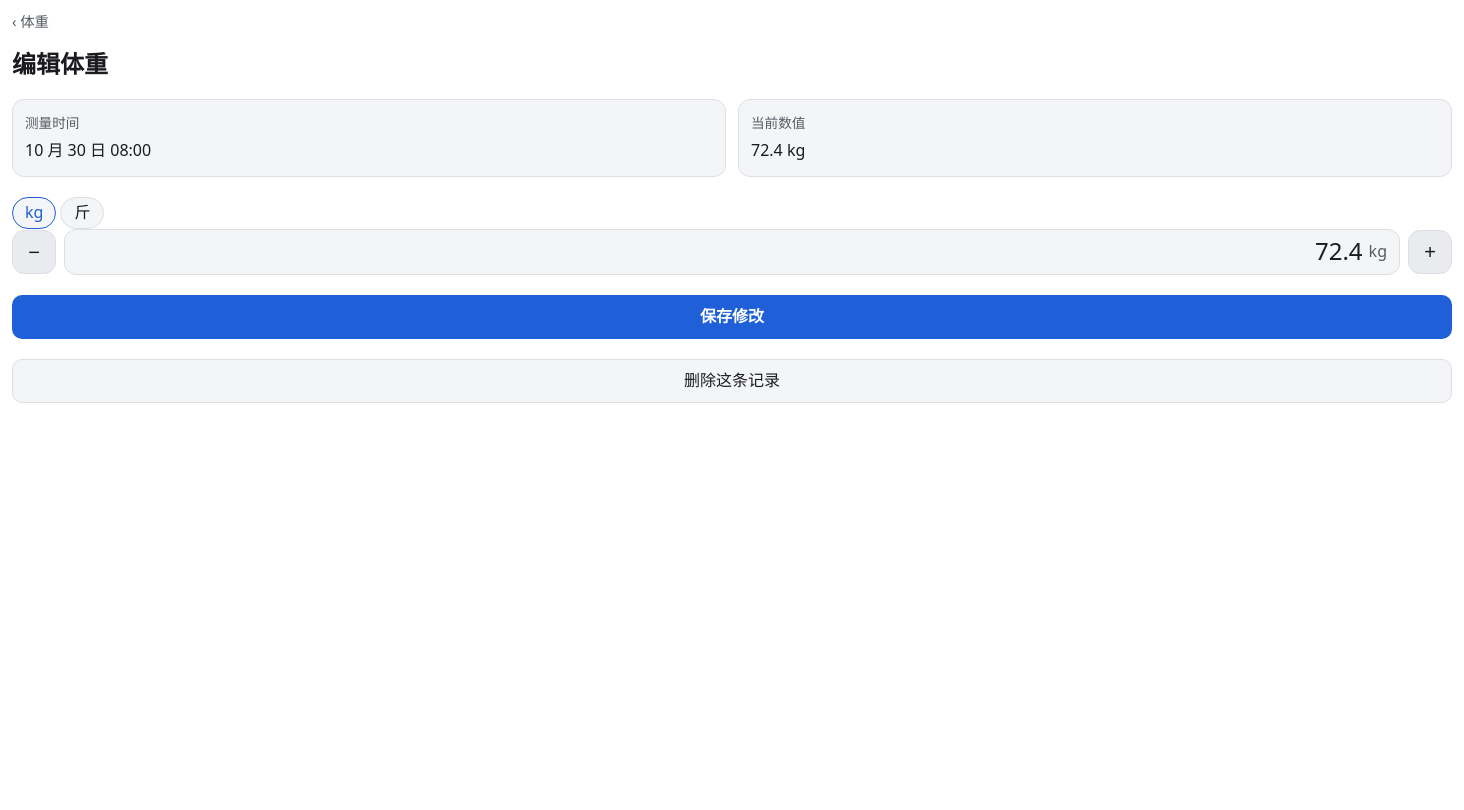
Test: 写入失败 › 修改失败时停留在编辑页，并保留调好的数值
Check: the text "测量时间" is shown, box [25,113,79,132]
Replace the text in the field named "体重" with "72.6" at (721, 252), box [77,230,1365,274]
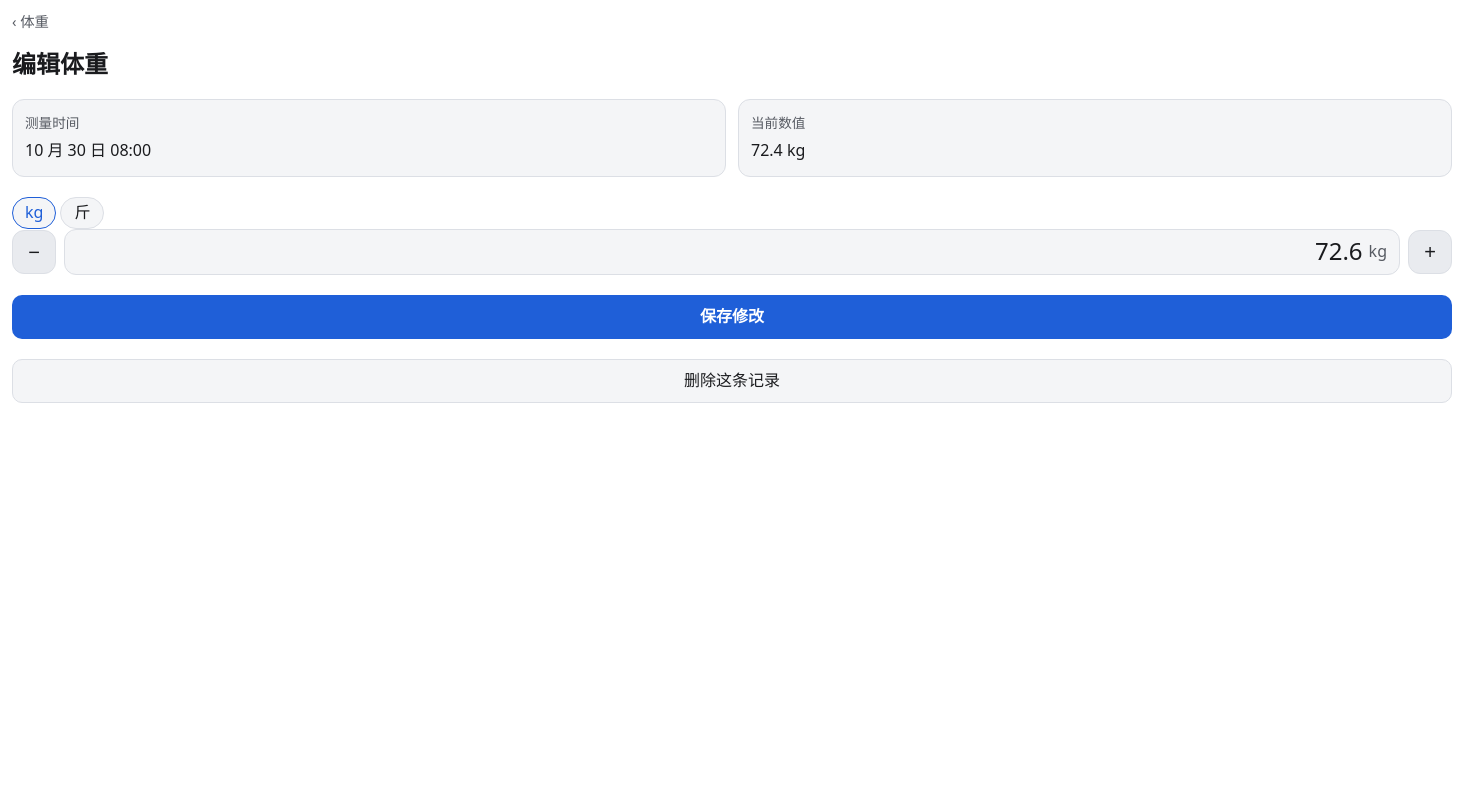
Click the button "保存修改" at (732, 316), box [12,294,1452,338]
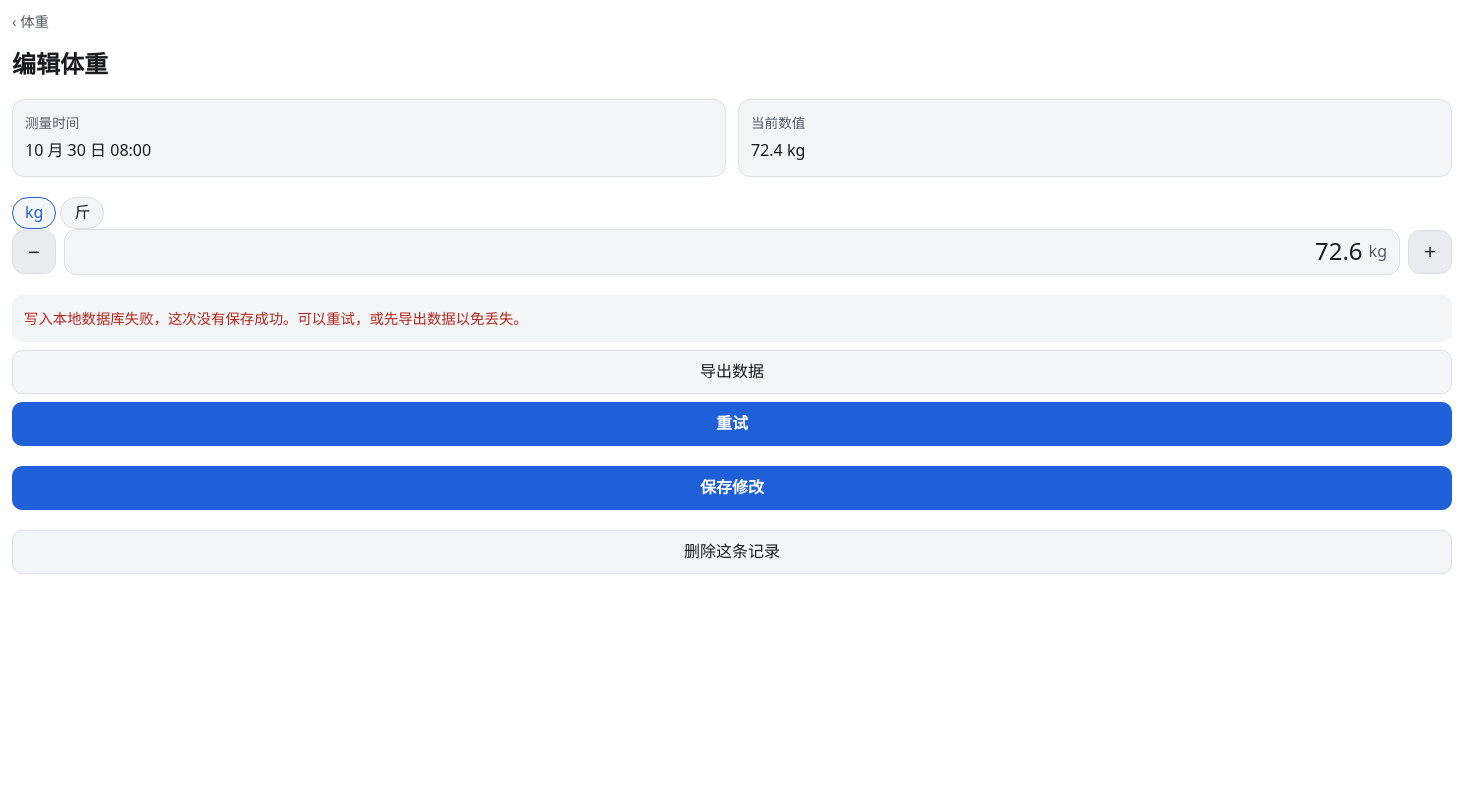
Check: the button "保存修改" is shown, box [12,466,1452,510]
Check: the message shows "写入本地数据库失败", box [24,308,528,328]
